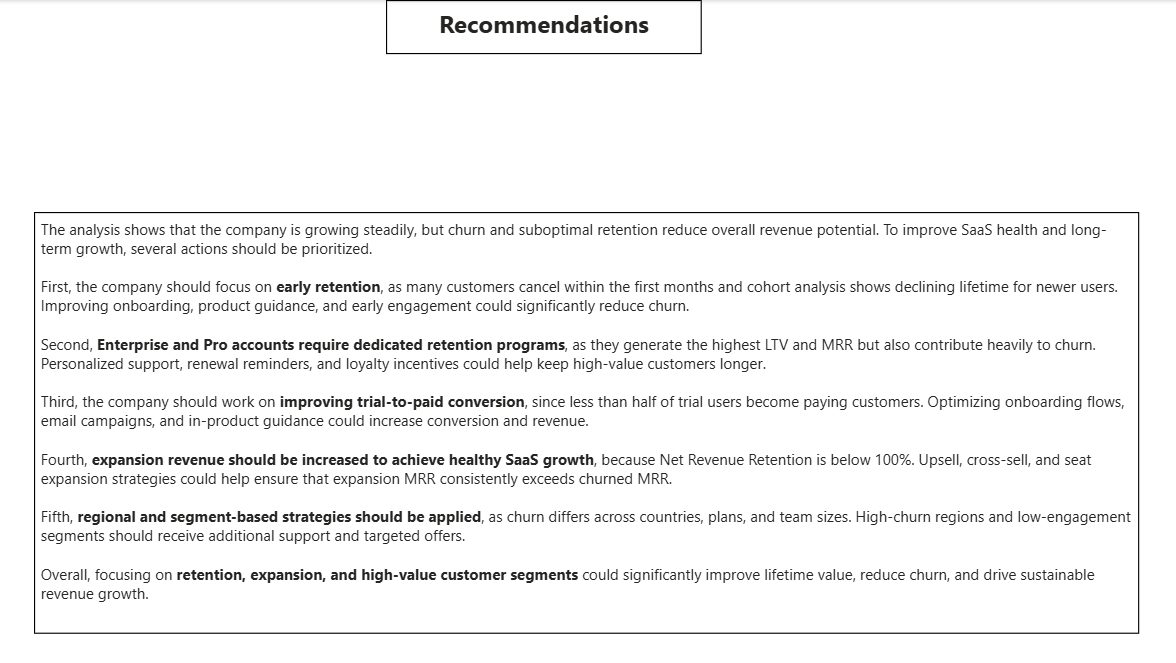

Layout of this report page (visuals, bound fields, positions):
{"tool":"powerbi","page":{"name":"Recommendations","canvas":[1280,720],"ordinal":8},"visuals":[{"type":"textbox","box":[461.6,0,280,48.3],"z":0},{"type":"textbox","box":[150.3,187.8,980.3,373.9],"z":1}]}

Visuals, with their boxes in screenshot pixels (x1, y1, x2, y2), scaled from the page's 1280x720 canvas onto the 1176x663 screenshot:
textbox: pyautogui.locateOnScreen(424, 0, 681, 44)
textbox: pyautogui.locateOnScreen(138, 173, 1039, 517)
